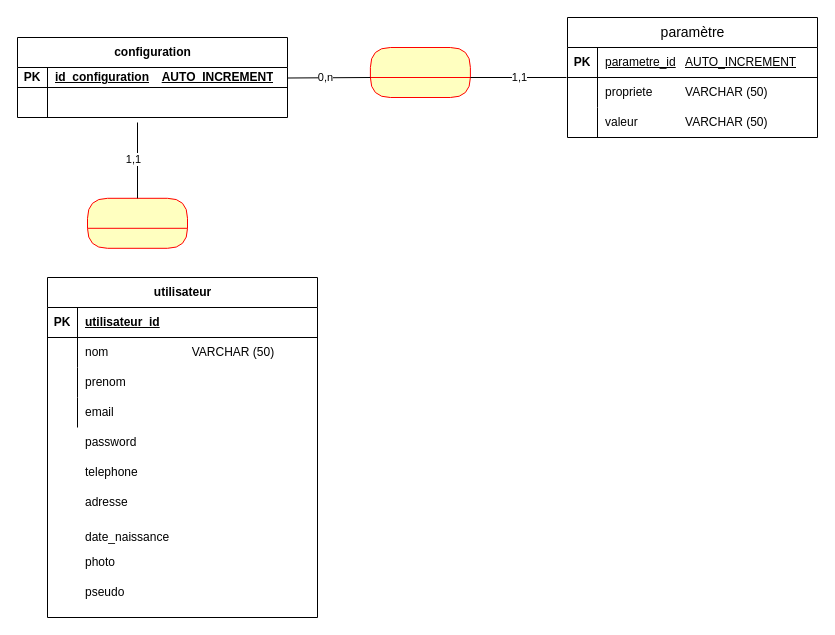
The diagram is 835 pixels wide and 635 high, and some of its shapes have lost their labels. The shapes that lost their labels are listed below. From the top down, each one's centre as x and y in pixels, then its label:
(x=419, y=72): dispose
(x=137, y=222): parametre
